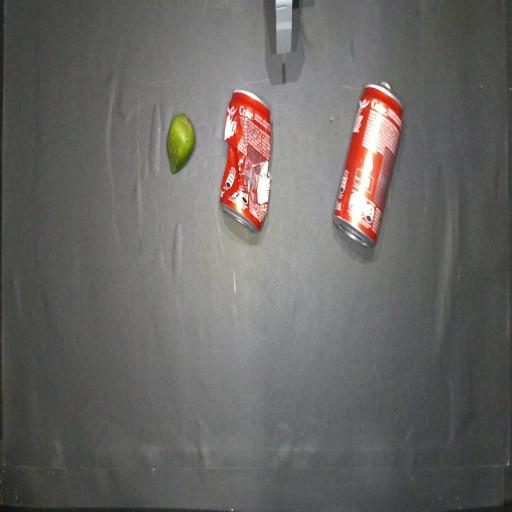higo: (167, 114, 195, 174)
lata: (332, 83, 402, 247)
lata_defectuoso: (220, 90, 271, 232)
